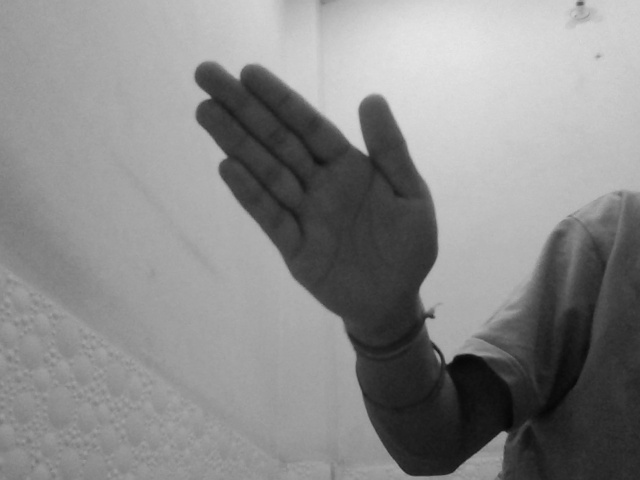Hello: (190, 56, 444, 319)
